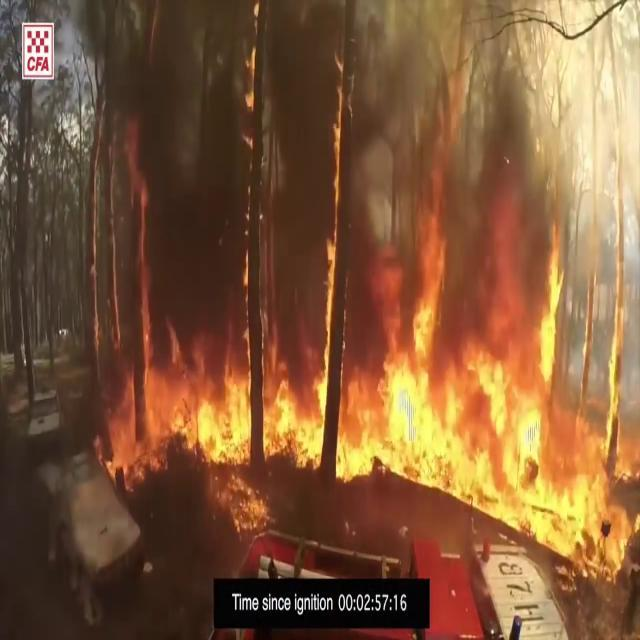Fire: (388, 59, 640, 582), (101, 300, 412, 499), (323, 51, 349, 349)
